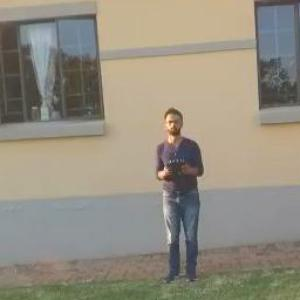follow: (152, 104, 212, 285)
